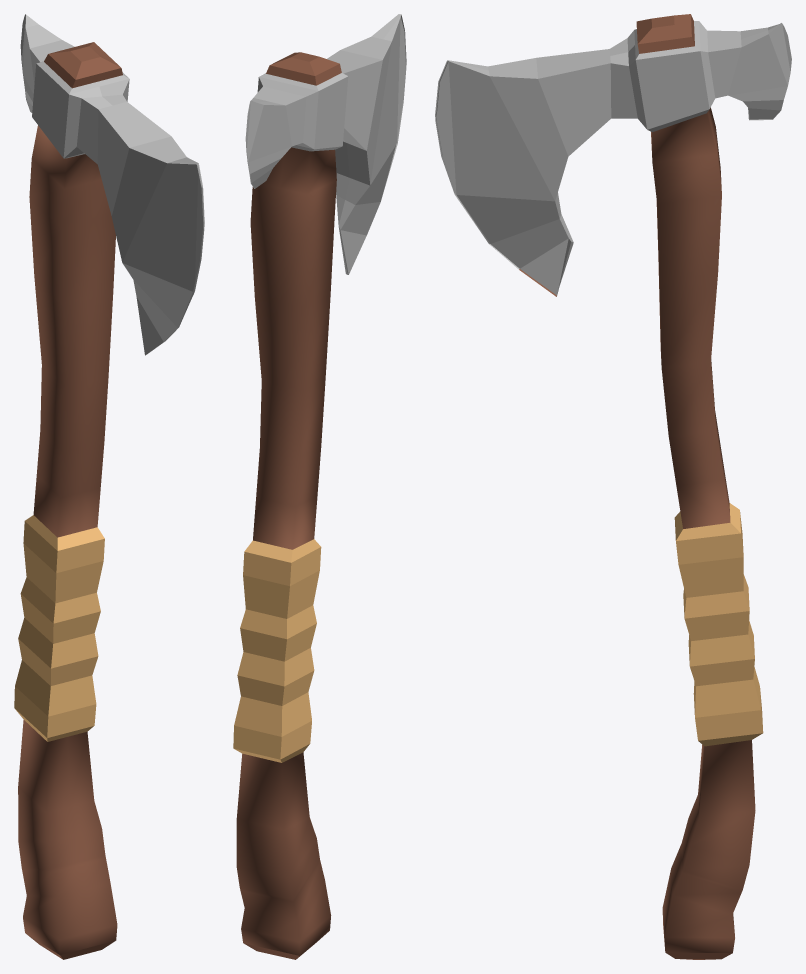
File: Axe.fbx
3 views of the same model, side by side, from view 1: azimuth 30°, elevation 25°; view 2: azimuth 150°, elevation 25°; view 3: azimuth 270°, elevation 25° (orthographic). The views are drawn at different scales.
Visible parts, largest first — view 1: Cube; view 2: Cube; view 3: Cube.
Boxes of the visible parts, x1,y1,x2,y2 form: Cube: (14, 14, 204, 959); Cube: (233, 14, 406, 959); Cube: (435, 14, 791, 959).
Size of the model in its own units: 35.36 by 480 by 166.
